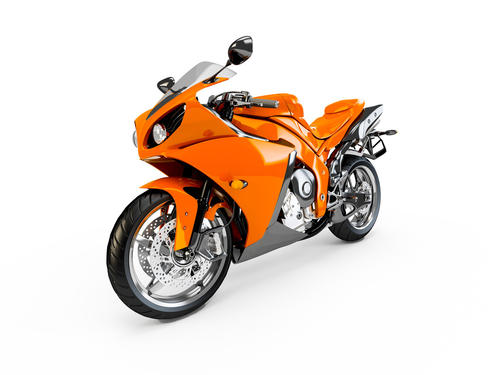motor: (107, 49, 408, 320)
